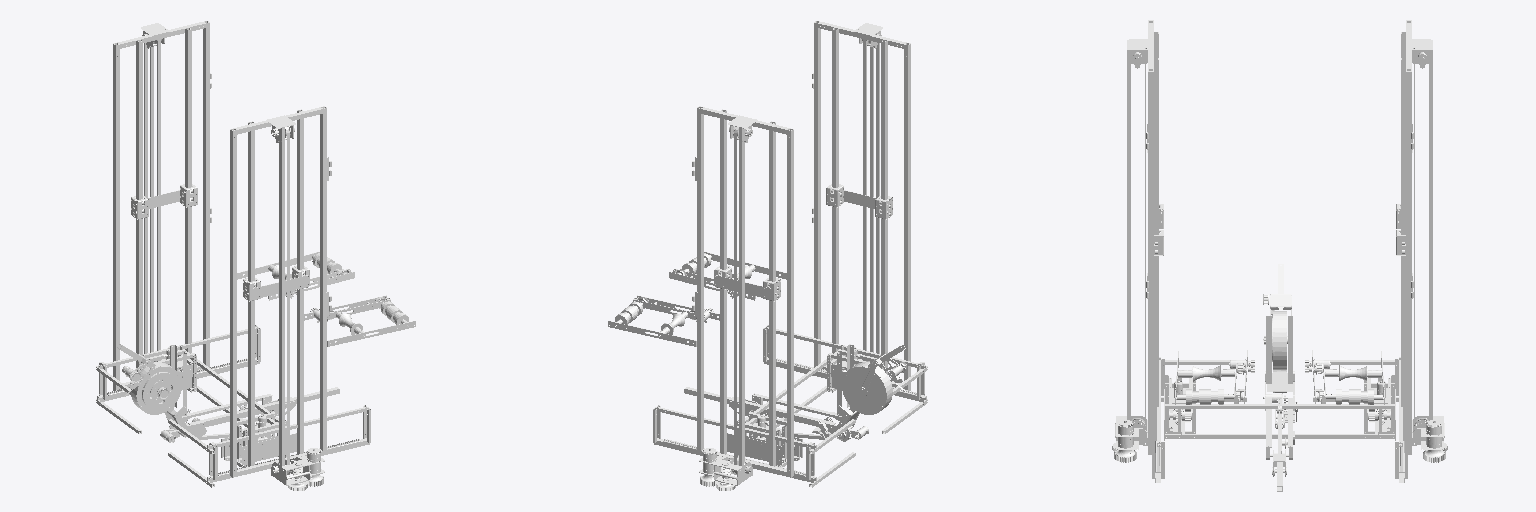
robot.urdf — nhk2025b:
<?xml version="1.0"?>
<robot name="nhk2025b">

<!-- material color setting -->
<material name="#ffffff">
  <color rgba="1.000 1.000 1.000 1.0"/>
</material>

  <link name="base_link"/>

  <joint name="base_link_to_c_nhk2025b" type="fixed">
    <origin xyz="0 0 0" rpy="0.0 0.0 0.0"/>
    <parent link="base_link"/>
    <child link="c_nhk2025b"/>
  </joint>

  <link name="c_nhk2025b">
    <inertial>
      <origin xyz="0 0 0" rpy="0 0 0"/>
      <mass value="0.008084"/>
      <inertia ixx="0.493737" ixy="-0.002906" ixz="-0.092411" iyy="0.367144" iyz="-0.000025" izz="0.437208"/>
    </inertial>
    <visual>
      <origin xyz="0 0 0" rpy="0 0 0"/>
      <geometry>
        <mesh filename="package://nhk2025b_description/meshes/c_nhk2025b.stl"/>
      </geometry>
      <material name="#ffffff"/>
    </visual>
    <collision>
      <origin xyz="0 0 0" rpy="0 0 0"/>
      <geometry>
        <mesh filename="package://nhk2025b_description/meshes/c_nhk2025b.stl"/>
      </geometry>
    </collision>
  </link>

  <joint name="c_nhk2025b_to_r_box_arm" type="revolute">
    <origin xyz="0.15 -0.35 0.065" rpy="0.0 0.0 0.0"/>
    <axis xyz="0 0 1"/>
    <parent link="c_nhk2025b"/>
    <child link="r_box_arm"/>
    <limit lower="0" upper="1.570796" effort="0" velocity="0"/>
  </joint>

  <link name="r_box_arm">
    <inertial>
      <origin xyz="0 0 0" rpy="0 0 0"/>
      <mass value="0.000489"/>
      <inertia ixx="0.034793" ixy="-0.000064" ixz="0.000628" iyy="0.035137" iyz="-0.000889" izz="0.024262"/>
    </inertial>
    <visual>
      <origin xyz="0 0 0" rpy="0 0 0"/>
      <geometry>
        <mesh filename="package://nhk2025b_description/meshes/r_box_arm.stl"/>
      </geometry>
      <material name="#ffffff"/>
    </visual>
    <collision>
      <origin xyz="0 0 0" rpy="0 0 0"/>
      <geometry>
        <mesh filename="package://nhk2025b_description/meshes/r_box_arm.stl"/>
      </geometry>
    </collision>
  </link>

  <joint name="r_box_arm_to_r_box_arm_height" type="prismatic">
    <origin xyz="-0.1 0.045 0.0" rpy="0.0 0.0 0.0"/>
    <limit effort="1000.0" lower="0" upper="1.0" velocity="0.5"/>
    <axis xyz = "0 0 1"/>
    <parent link="r_box_arm"/>
    <child link="r_box_arm_height"/>
  </joint>

  <link name="r_box_arm_height">
    <inertial>
      <origin xyz="0 0 0" rpy="0 0 0"/>
      <mass value="0.000241"/>
      <inertia ixx="0.001619" ixy="0.000140" ixz="0.000021" iyy="0.001570" iyz="0.000035" izz="0.001710"/>
    </inertial>
    <visual>
      <origin xyz="0 0 0" rpy="0 0 0"/>
      <geometry>
        <mesh filename="package://nhk2025b_description/meshes/r_box_arm_height.stl"/>
      </geometry>
      <material name="#ffffff"/>
    </visual>
    <collision>
      <origin xyz="0 0 0" rpy="0 0 0"/>
      <geometry>
        <mesh filename="package://nhk2025b_description/meshes/r_box_arm_height.stl"/>
      </geometry>
    </collision>
  </link>

  <joint name="r_box_arm_height_to_r_box_arm_strong" type="prismatic">
    <origin xyz="0.255 0.0 0.0" rpy="0.0 0.0 0.0"/>
    <limit effort="1000.0" lower="0" upper="0.3" velocity="0.5"/>
    <axis xyz = "-1 0 0"/>
    <parent link="r_box_arm_height"/>
    <child link="r_box_arm_strong"/>
  </joint>

  <link name="r_box_arm_strong">
    <inertial>
      <origin xyz="0 0 0" rpy="0 0 0"/>
      <mass value="0.000129"/>
      <inertia ixx="0.001283" ixy="-0.000133" ixz="0.000008" iyy="0.001790" iyz="-0.000006" izz="0.001813"/>
    </inertial>
    <visual>
      <origin xyz="0 0 0" rpy="0 0 0"/>
      <geometry>
        <mesh filename="package://nhk2025b_description/meshes/r_box_arm_strong.stl"/>
      </geometry>
      <material name="#ffffff"/>
    </visual>
    <collision>
      <origin xyz="0 0 0" rpy="0 0 0"/>
      <geometry>
        <mesh filename="package://nhk2025b_description/meshes/r_box_arm_strong.stl"/>
      </geometry>
    </collision>
  </link>

  <joint name="c_nhk2025b_to_l_box_arm" type="revolute">
    <origin xyz="0.15 0.35 0.065" rpy="0.0 0.0 0.0"/>
    <axis xyz="0 0 -1"/>
    <parent link="c_nhk2025b"/>
    <child link="l_box_arm"/>
    <limit lower="0" upper="1.570796" effort="0" velocity="0"/>
  </joint>

  <link name="l_box_arm">
    <inertial>
      <origin xyz="0 0 0" rpy="0 0 0"/>
      <mass value="0.000489"/>
      <inertia ixx="0.173930" ixy="-0.000562" ixz="0.005498" iyy="0.182804" iyz="0.007761" izz="0.011761"/>
    </inertial>
    <visual>
      <origin xyz="0 0 0" rpy="0 0 0"/>
      <geometry>
        <mesh filename="package://nhk2025b_description/meshes/l_box_arm.stl"/>
      </geometry>
      <material name="#ffffff"/>
    </visual>
    <collision>
      <origin xyz="0 0 0" rpy="0 0 0"/>
      <geometry>
        <mesh filename="package://nhk2025b_description/meshes/l_box_arm.stl"/>
      </geometry>
    </collision>
  </link>

  <joint name="l_box_arm_to_l_box_arm_height" type="prismatic">
    <origin xyz="-0.1 -0.045 0.0" rpy="0.0 0.0 0.0"/>
    <limit effort="1000.0" lower="0" upper="1.0" velocity="0.5"/>
    <axis xyz = "0 0 1"/>
    <parent link="l_box_arm"/>
    <child link="l_box_arm_height"/>
  </joint>

  <link name="l_box_arm_height">
    <inertial>
      <origin xyz="0 0 0" rpy="0 0 0"/>
      <mass value="0.000241"/>
      <inertia ixx="0.001837" ixy="0.000403" ixz="0.000061" iyy="0.001817" iyz="-0.000102" izz="0.002491"/>
    </inertial>
    <visual>
      <origin xyz="0 0 0" rpy="0 0 0"/>
      <geometry>
        <mesh filename="package://nhk2025b_description/meshes/l_box_arm_height.stl"/>
      </geometry>
      <material name="#ffffff"/>
    </visual>
    <collision>
      <origin xyz="0 0 0" rpy="0 0 0"/>
      <geometry>
        <mesh filename="package://nhk2025b_description/meshes/l_box_arm_height.stl"/>
      </geometry>
    </collision>
  </link>

  <joint name="l_box_arm_height_to_l_box_arm_strong" type="prismatic">
    <origin xyz="0.255 0.0 0.0" rpy="0.0 0.0 0.0"/>
    <limit effort="1000.0" lower="0" upper="0.3" velocity="0.5"/>
    <axis xyz = "-1 0 0"/>
    <parent link="l_box_arm_height"/>
    <child link="l_box_arm_strong"/>
  </joint>

  <link name="l_box_arm_strong">
    <inertial>
      <origin xyz="0 0 0" rpy="0 0 0"/>
      <mass value="0.000129"/>
      <inertia ixx="0.001302" ixy="-0.001162" ixz="0.000067" iyy="0.008836" iyz="0.000055" izz="0.009058"/>
    </inertial>
    <visual>
      <origin xyz="0 0 0" rpy="0 0 0"/>
      <geometry>
        <mesh filename="package://nhk2025b_description/meshes/l_box_arm_strong.stl"/>
      </geometry>
      <material name="#ffffff"/>
    </visual>
    <collision>
      <origin xyz="0 0 0" rpy="0 0 0"/>
      <geometry>
        <mesh filename="package://nhk2025b_description/meshes/l_box_arm_strong.stl"/>
      </geometry>
    </collision>
  </link>

  <joint name="c_nhk2025b_to_c_E_arm" type="revolute">
    <origin xyz="-0.225 0.0 0.225" rpy="0.0 0.0 0.0"/>
    <axis xyz="0 -1 0"/>
    <parent link="c_nhk2025b"/>
    <child link="c_E_arm"/>
    <limit lower="0" upper="3.14159" effort="0" velocity="0"/>
  </joint>

  <link name="c_E_arm">
    <inertial>
      <origin xyz="0 0 0" rpy="0 0 0"/>
      <mass value="0.001189"/>
      <inertia ixx="0.004958" ixy="-0.000229" ixz="0.006035" iyy="0.022369" iyz="0.000083" izz="0.017905"/>
    </inertial>
    <visual>
      <origin xyz="0 0 0" rpy="0 0 0"/>
      <geometry>
        <mesh filename="package://nhk2025b_description/meshes/c_E_arm.stl"/>
      </geometry>
      <material name="#ffffff"/>
    </visual>
    <collision>
      <origin xyz="0 0 0" rpy="0 0 0"/>
      <geometry>
        <mesh filename="package://nhk2025b_description/meshes/c_E_arm.stl"/>
      </geometry>
    </collision>
  </link>

  <joint name="c_nhk2025b_to_l_pylon_arm_height" type="prismatic">
    <origin xyz="0.225 0.27 0.375" rpy="0.0 0.0 0.0"/>
    <limit effort="1000.0" lower="0" upper="0.3" velocity="0.5"/>
    <axis xyz = "0 0 1"/>
    <parent link="c_nhk2025b"/>
    <child link="l_pylon_arm_height"/>
  </joint>

  <link name = "l_pylon_arm_height"/>

  <joint name="l_pylon_arm_height_to_l_pylon_arm" type="revolute">
    <origin xyz="0 0 0" rpy="0.0 1.5707963267948966 0.0"/>
    <axis xyz="0 1 0"/>
    <parent link="l_pylon_arm_height"/>
    <child link="l_pylon_arm"/>
    <limit lower="0" upper="1.570796" effort="0" velocity="0"/>
  </joint>

  <link name="l_pylon_arm">
    <inertial>
      <origin xyz="0 0 0" rpy="0 0 0"/>
      <mass value="0.000280"/>
      <inertia ixx="0.002149" ixy="-0.000020" ixz="-0.000006" iyy="0.001355" iyz="-0.000453" izz="0.000813"/>
    </inertial>
    <visual>
      <origin xyz="0 0 0" rpy="0 0 0"/>
      <geometry>
        <mesh filename="package://nhk2025b_description/meshes/l_pylon_arm.stl"/>
      </geometry>
      <material name="#ffffff"/>
    </visual>
    <collision>
      <origin xyz="0 0 0" rpy="0 0 0"/>
      <geometry>
        <mesh filename="package://nhk2025b_description/meshes/l_pylon_arm.stl"/>
      </geometry>
    </collision>
  </link>

  <joint name="c_nhk2025b_to_r_pylon_arm_height" type="prismatic">
    <origin xyz="0.225 -0.27 0.375" rpy="0.0 0.0 0.0"/>
    <limit effort="1000.0" lower="0" upper="0.3" velocity="0.5"/>
    <axis xyz = "0 0 1"/>
    <parent link="c_nhk2025b"/>
    <child link="r_pylon_arm_height"/>
  </joint>

  <link name = "r_pylon_arm_height"/>

  <joint name="r_pylon_arm_height_to_r_pylon_arm" type="revolute">
    <origin xyz="0 0 0" rpy="0.0 1.5707963267948966 0.0"/>
    <axis xyz="0 1 0"/>
    <parent link="r_pylon_arm_height"/>
    <child link="r_pylon_arm"/>
    <limit lower="0" upper="1.570796" effort="0" velocity="0"/>
  </joint>

  <link name="r_pylon_arm">
    <inertial>
      <origin xyz="0 0 0" rpy="0 0 0"/>
      <mass value="0.000280"/>
      <inertia ixx="0.002200" ixy="-0.000012" ixz="-0.000004" iyy="0.002032" iyz="0.000277" izz="0.001922"/>
    </inertial>
    <visual>
      <origin xyz="0 0 0" rpy="0 0 0"/>
      <geometry>
        <mesh filename="package://nhk2025b_description/meshes/r_pylon_arm.stl"/>
      </geometry>
      <material name="#ffffff"/>
    </visual>
    <collision>
      <origin xyz="0 0 0" rpy="0 0 0"/>
      <geometry>
        <mesh filename="package://nhk2025b_description/meshes/r_pylon_arm.stl"/>
      </geometry>
    </collision>
  </link>

</robot>

--- What the picture shows (computed from the rendered views, not written in the file) ---
3 views of the same robot in one strip: view 1: azimuth 30°, elevation 25°; view 2: azimuth 150°, elevation 25°; view 3: azimuth 270°, elevation 25° (orthographic).
Model nhk2025b with 13 links and 12 joints (5 revolute, 6 prismatic, 1 fixed), rooted at base_link, posed every joint at zero.
Links seen in each view (by area): view 1: r_box_arm, l_box_arm, c_E_arm, r_box_arm_strong, l_box_arm_strong, r_pylon_arm, r_box_arm_height, l_pylon_arm, l_box_arm_height; view 2: l_box_arm, r_box_arm, c_E_arm, l_box_arm_strong, l_pylon_arm, r_box_arm_strong, l_box_arm_height, r_pylon_arm, r_box_arm_height; view 3: r_box_arm, l_box_arm, c_E_arm, r_box_arm_height, l_box_arm_height, l_pylon_arm, r_pylon_arm, r_box_arm_strong, l_box_arm_strong.
Boxes of the visible links, box(x1,y1,x2,y2) form: r_box_arm: box(230, 106, 331, 490); l_box_arm: box(113, 21, 211, 390); c_E_arm: box(117, 344, 339, 442); r_box_arm_strong: box(168, 405, 370, 487); l_box_arm_strong: box(96, 325, 260, 433); r_pylon_arm: box(304, 295, 415, 346); r_box_arm_height: box(221, 389, 296, 466); l_pylon_arm: box(237, 252, 354, 300); l_box_arm_height: box(138, 345, 229, 412); l_box_arm: box(692, 106, 793, 490); r_box_arm: box(812, 21, 910, 390); c_E_arm: box(684, 344, 906, 443); l_box_arm_strong: box(653, 405, 855, 487); l_pylon_arm: box(608, 295, 719, 346); r_box_arm_strong: box(763, 325, 927, 433); l_box_arm_height: box(727, 389, 802, 466); r_pylon_arm: box(669, 252, 786, 300); r_box_arm_height: box(794, 345, 885, 412); r_box_arm: box(1112, 20, 1163, 462); l_box_arm: box(1396, 20, 1447, 462); c_E_arm: box(1263, 264, 1297, 491); r_box_arm_height: box(1164, 375, 1277, 440); l_box_arm_height: box(1282, 375, 1395, 440); l_pylon_arm: box(1305, 350, 1384, 404); r_pylon_arm: box(1175, 350, 1254, 404); r_box_arm_strong: box(1152, 357, 1246, 482); l_box_arm_strong: box(1313, 357, 1407, 482).
Bounding box of the posed robot: 0.8503 × 0.8879 × 1.2 m (x, y, z).
9 mesh visuals loaded from 10 distinct referenced files (9 binary STL); not drawn: 1 (reference not matched to a file when rendering).
